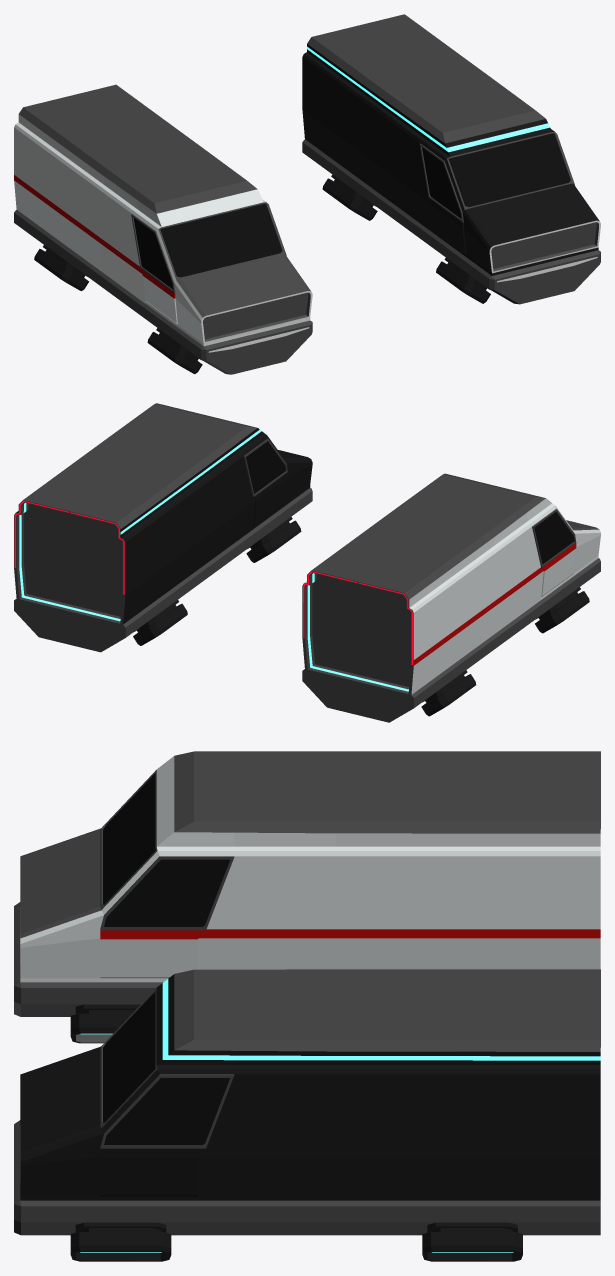
Rendered from van.fbx.
3 renders of one model, top to bottom at view 1: azimuth 30°, elevation 25°; view 2: azimuth 150°, elevation 25°; view 3: azimuth 270°, elevation 25°, orthographic. The views are drawn at different scales.
Parts seen in each view (by area): view 1: Cube, Cube.001; view 2: Cube.001, Cube; view 3: Cube, Cube.001.
Boxes of the visible parts, bbox=[...] form: Cube: bbox=[302, 14, 600, 304]; Cube.001: bbox=[14, 84, 312, 374]; Cube.001: bbox=[302, 473, 600, 722]; Cube: bbox=[14, 403, 312, 652]; Cube: bbox=[14, 969, 600, 1261]; Cube.001: bbox=[14, 751, 600, 1043].
Bounding box in the file's own units: 9.33 × 3.11 × 7.36.
